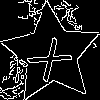X: (26, 28, 81, 84)
